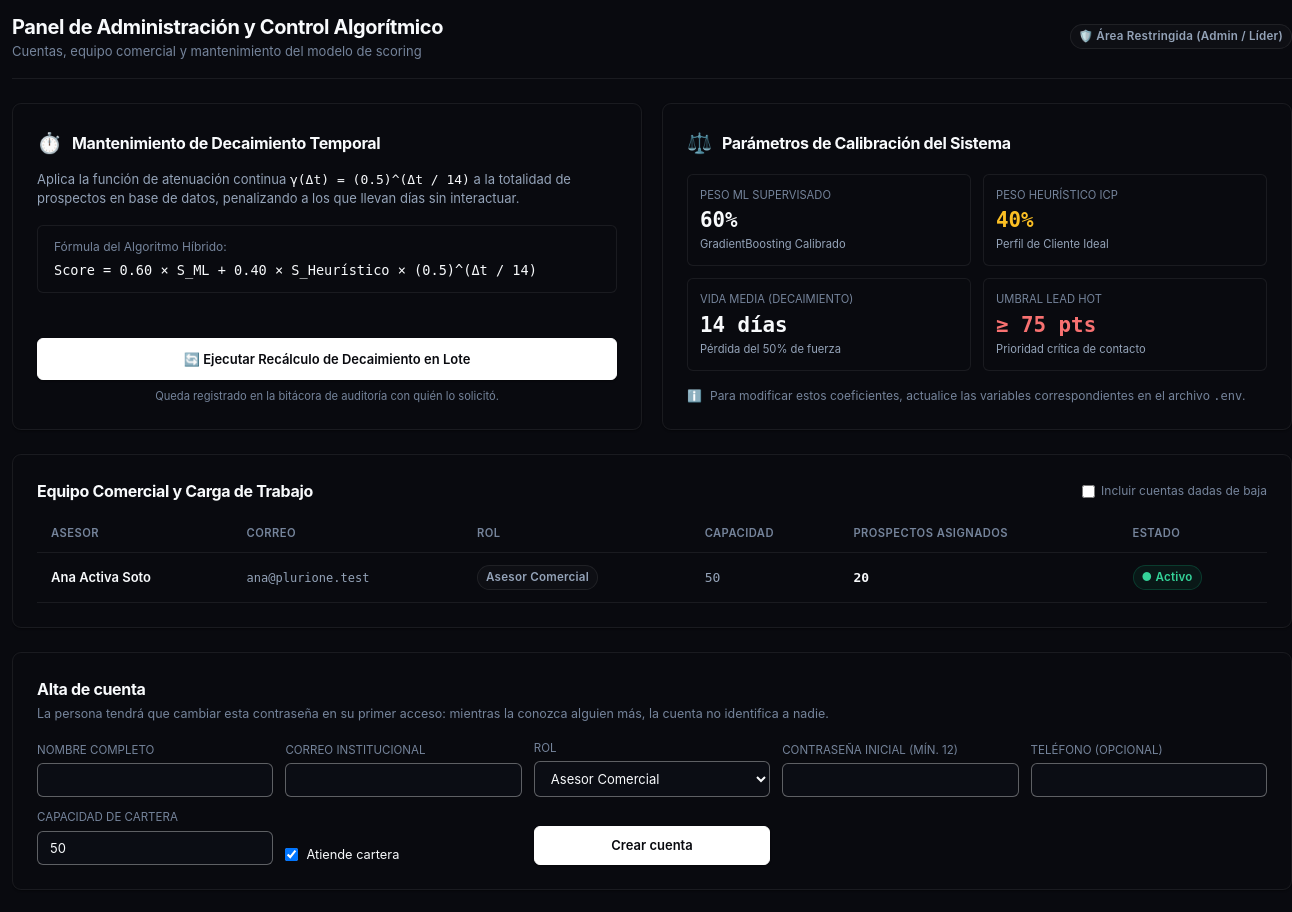
Test: un 422 al dar de alta una cuenta › señala el campo y lo explica en castellano
The width and height of the screenshot is (1292, 912).
Expected: the heading "Alta de cuenta" is shown, top-left (37, 679), bottom-right (146, 699)
Type "A" into the field labelled "Nombre completo". click: (155, 780)
box: top-left (37, 763), bottom-right (273, 797)
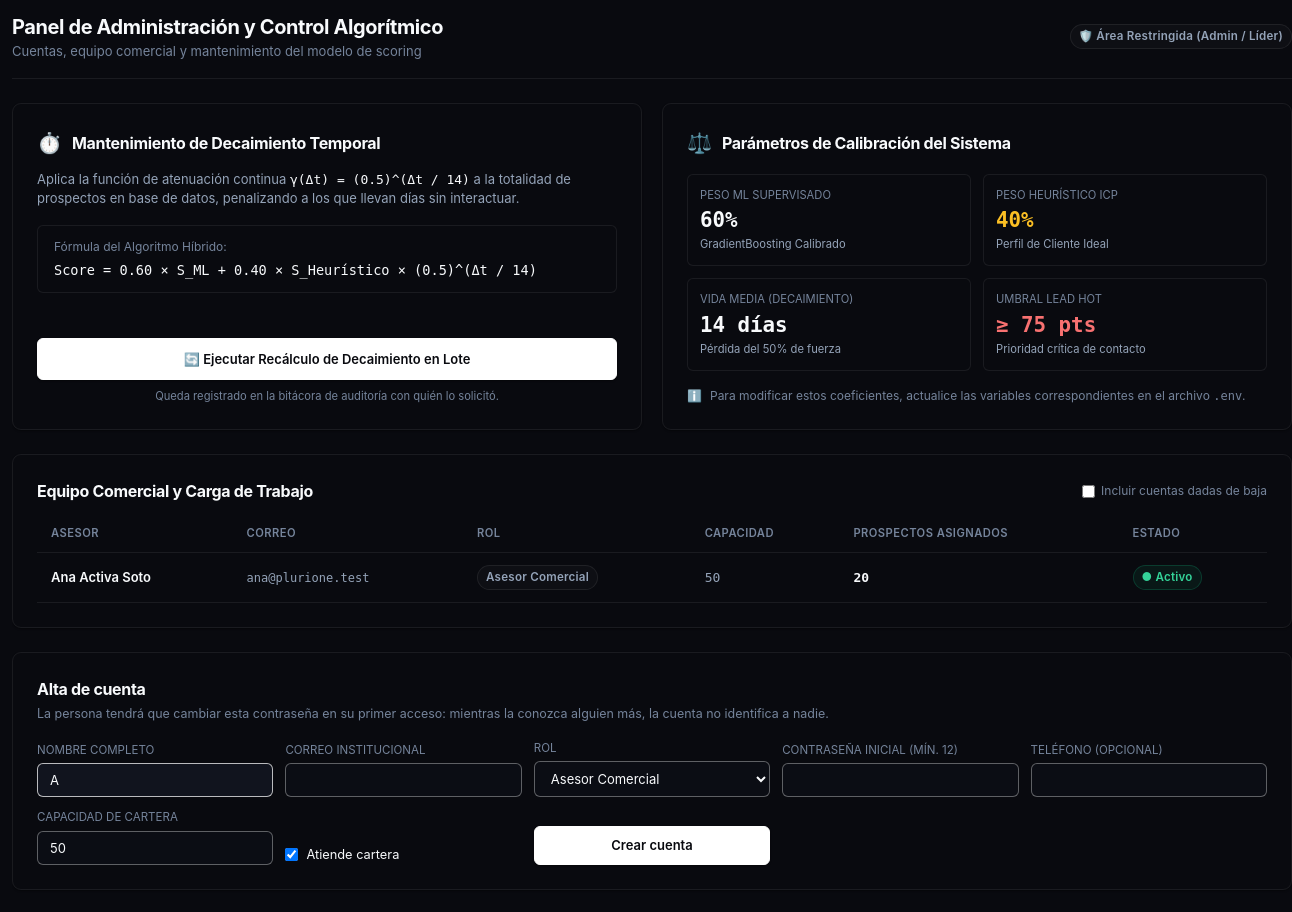
Type "nueva@plurione.test" into the field labelled "Correo institucional". click: (404, 780)
box: top-left (285, 763), bottom-right (522, 797)
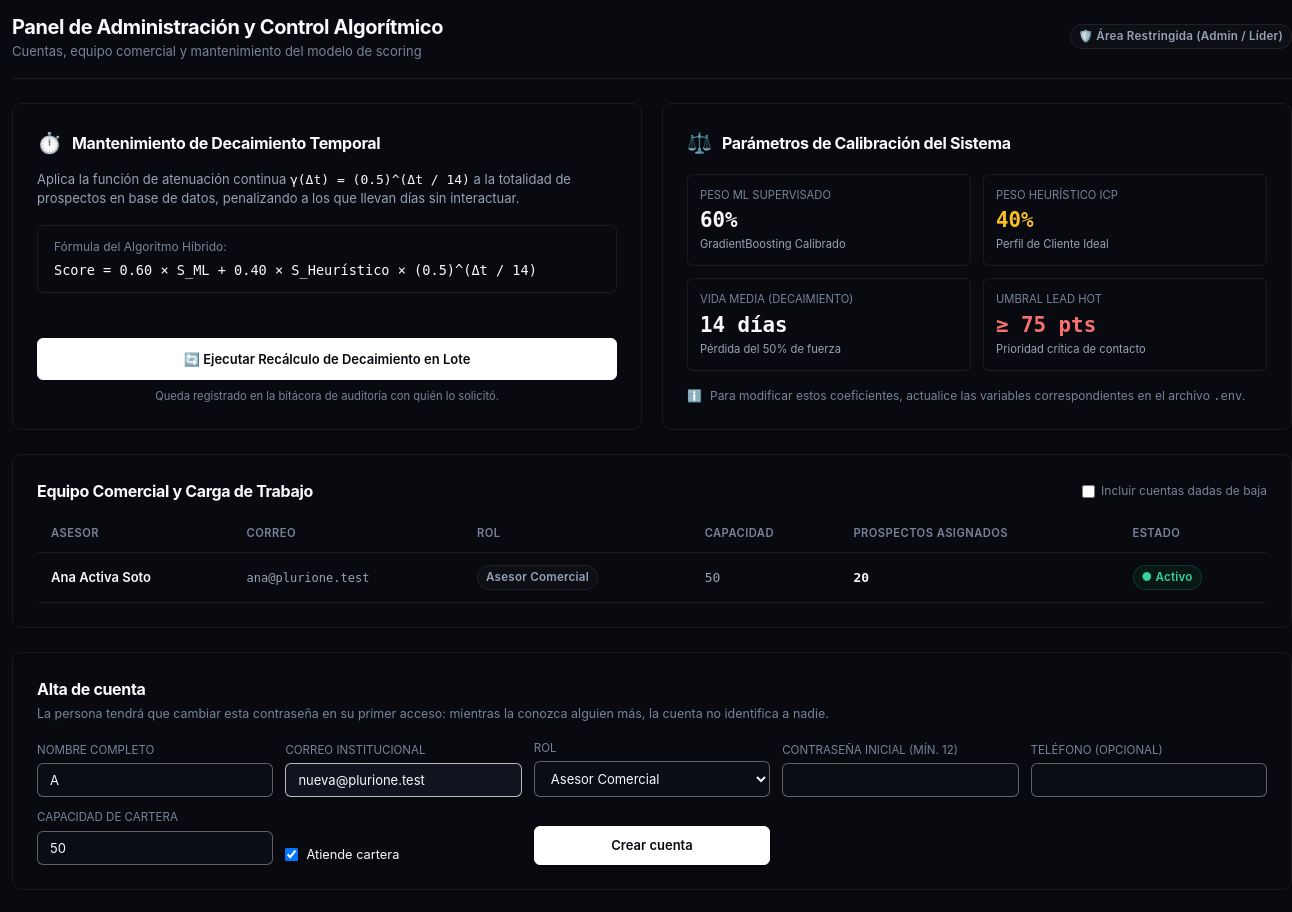
Type "unafraselargaybuena" into the password field labelled "Contraseña inicial (mín. 12)". click: (900, 780)
box: top-left (782, 763), bottom-right (1019, 797)
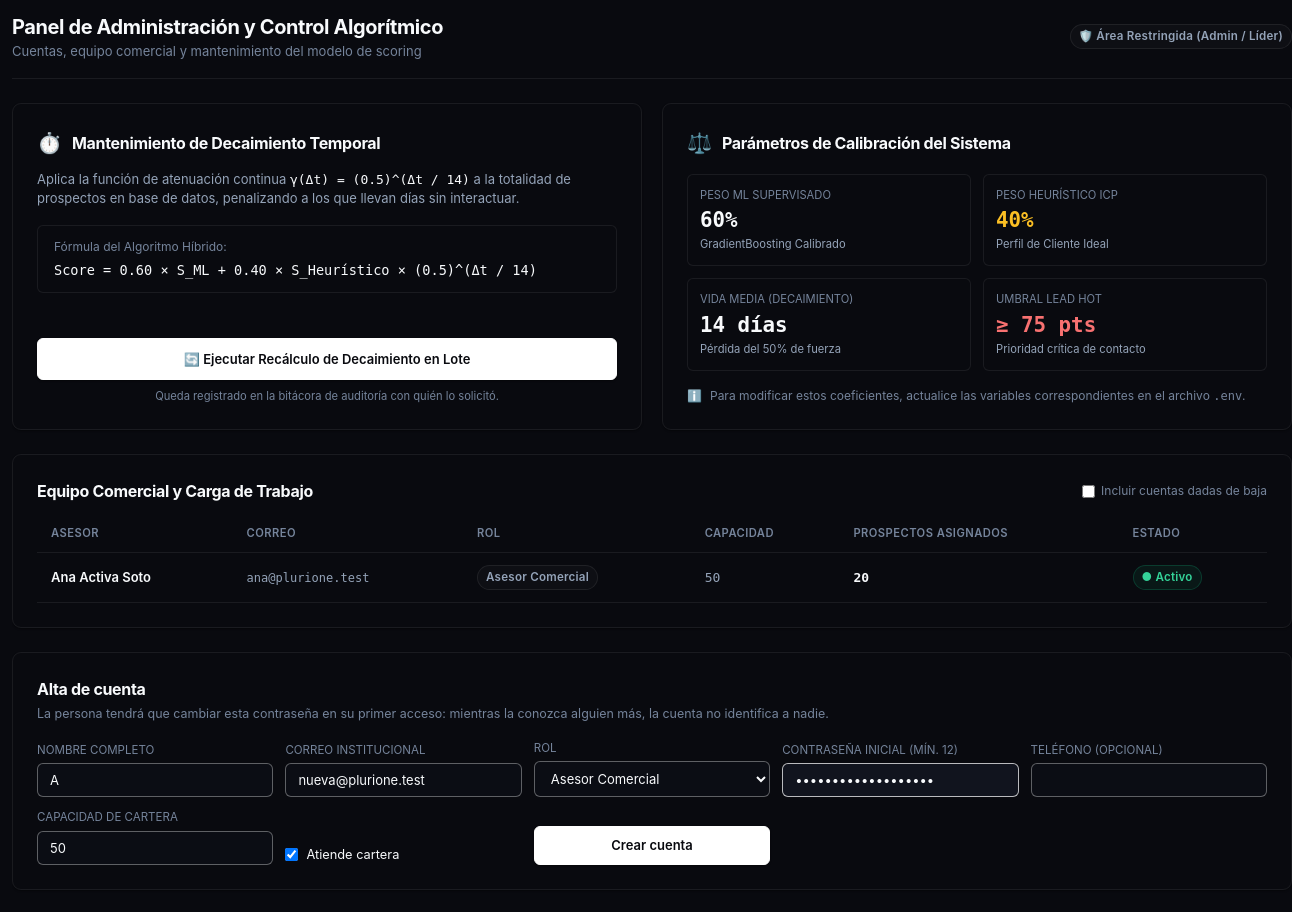
Click the button "Crear cuenta". click: click(652, 845)
box: top-left (534, 826), bottom-right (770, 865)
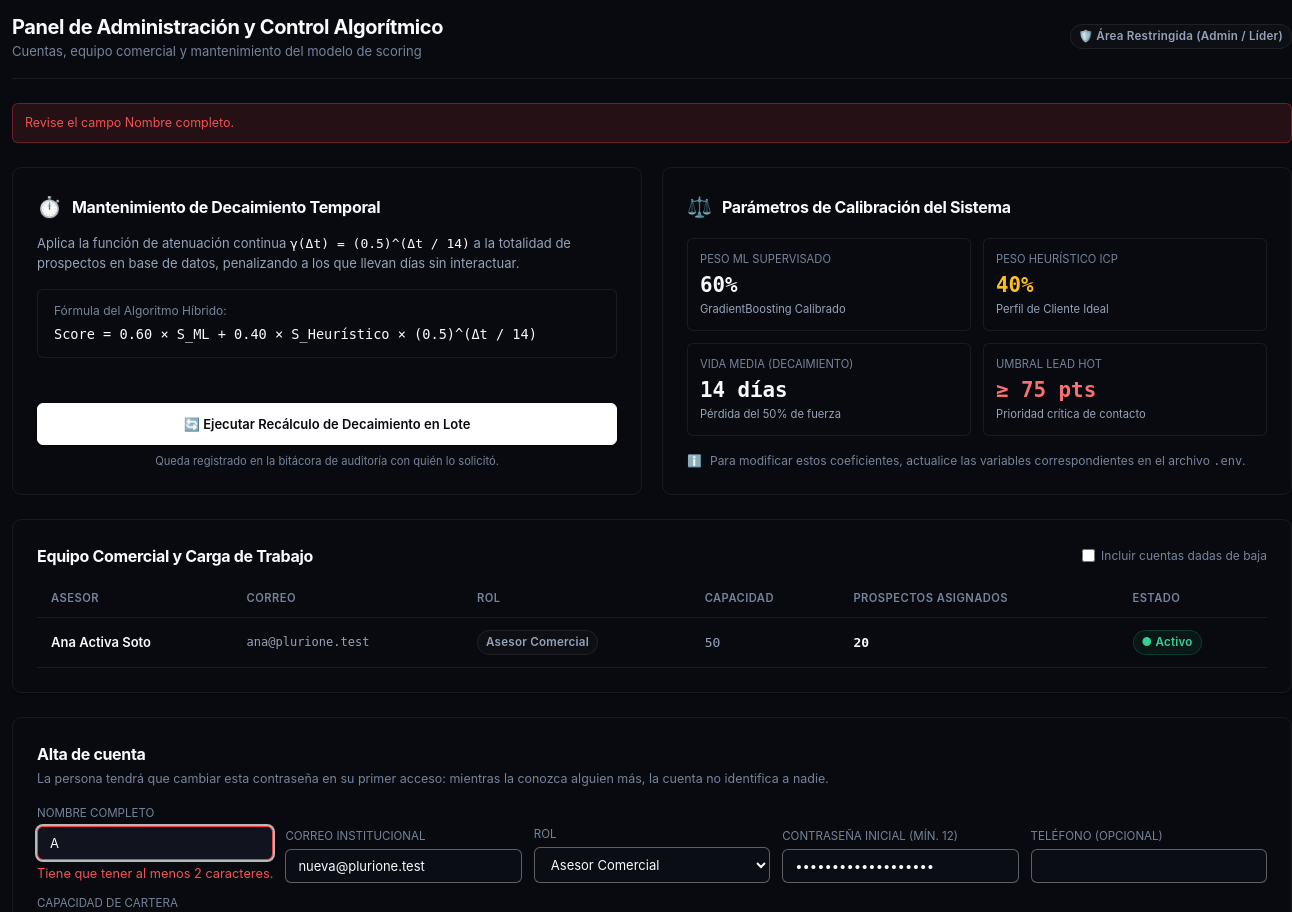
Result: the text "Tiene que tener al menos 2 caracteres." is shown at top-left (37, 864), bottom-right (273, 883)
